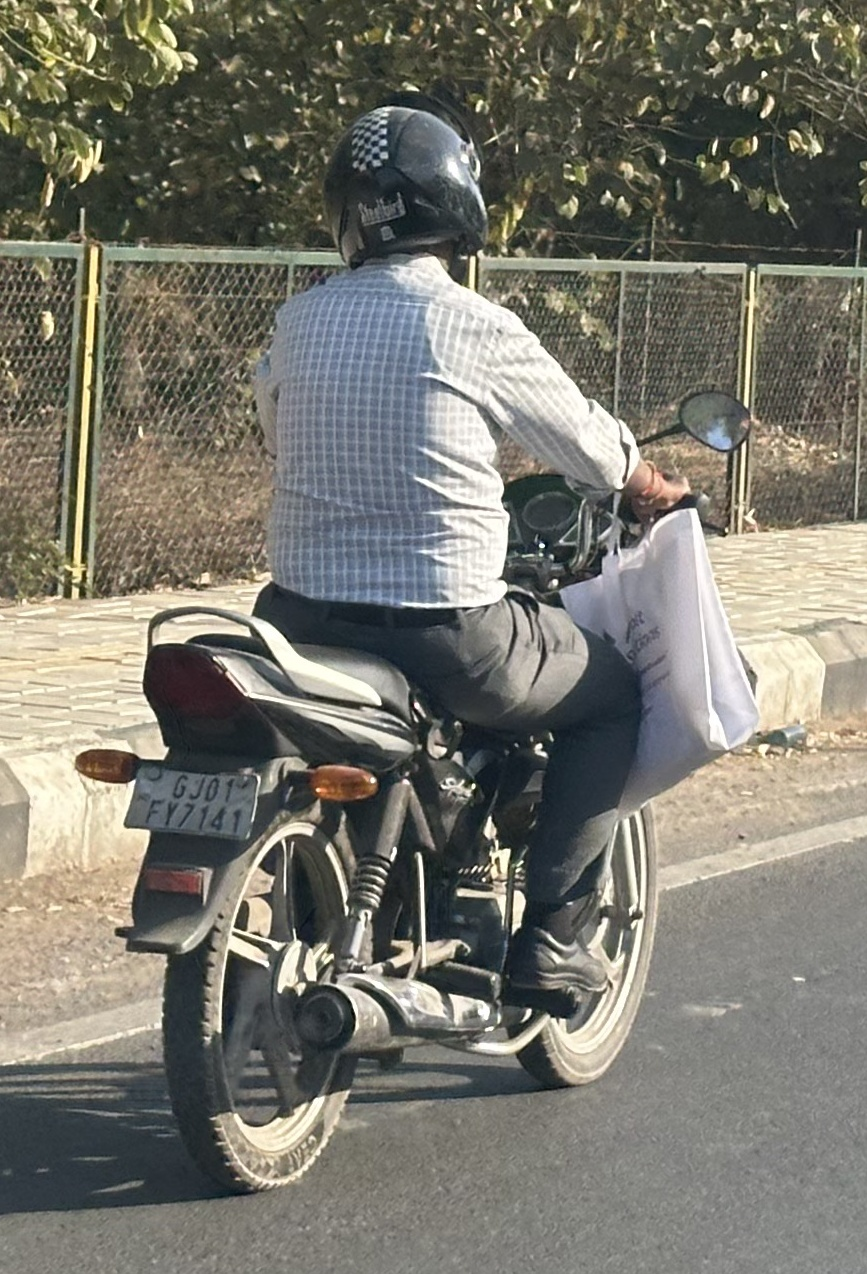BikeWithRider: (68, 77, 767, 1260)
Helmet: (305, 91, 515, 282)
